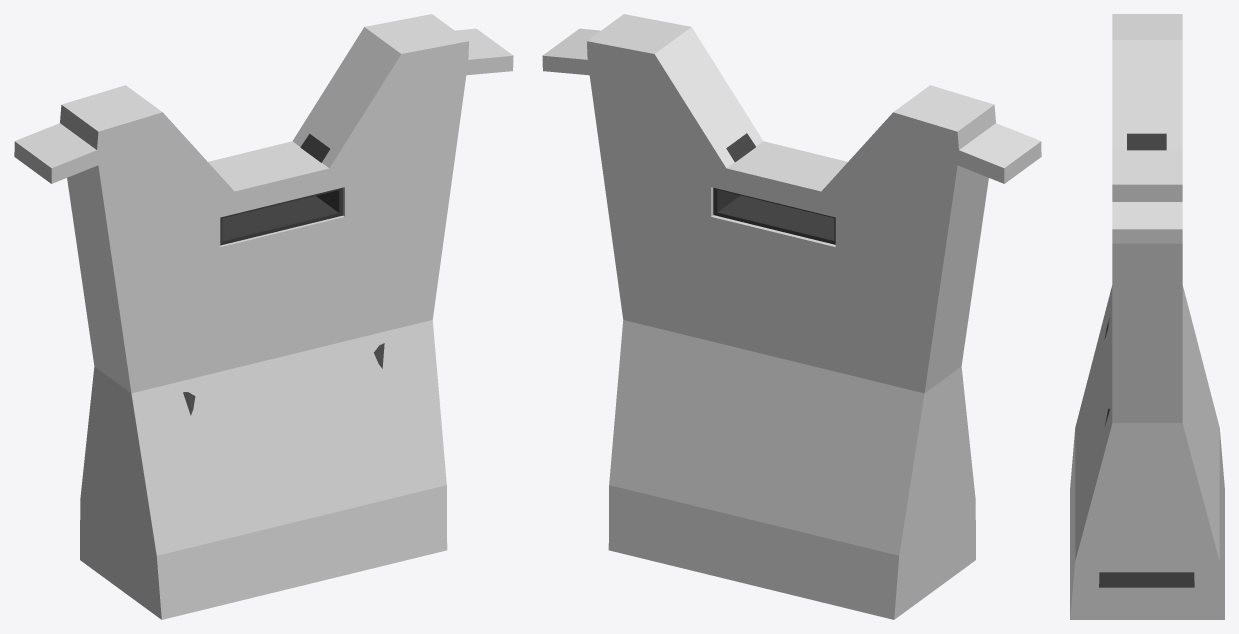
File: MetalBarricade.fbx
3 renders of one model, left to right at view 1: azimuth 30°, elevation 25°; view 2: azimuth 150°, elevation 25°; view 3: azimuth 270°, elevation 25°, orthographic. The views are drawn at different scales.
Visible parts, largest first — view 1: MetalBarricade1C, MetalBarricade1_LOD0; view 2: MetalBarricade1C, MetalBarricade1_LOD0; view 3: MetalBarricade1C, MetalBarricade1_LOD0.
Part boxes in pixels (x1,y1,x2,y2): MetalBarricade1C: (14,14,513,619); MetalBarricade1_LOD0: (183,133,384,415); MetalBarricade1C: (542,14,1041,619); MetalBarricade1_LOD0: (713,133,835,244); MetalBarricade1C: (1070,14,1224,619); MetalBarricade1_LOD0: (1099,133,1194,587).
Size of what is drawn, in the model's own units: 132 by 133 by 40.66.
1 material, 1 textured.
